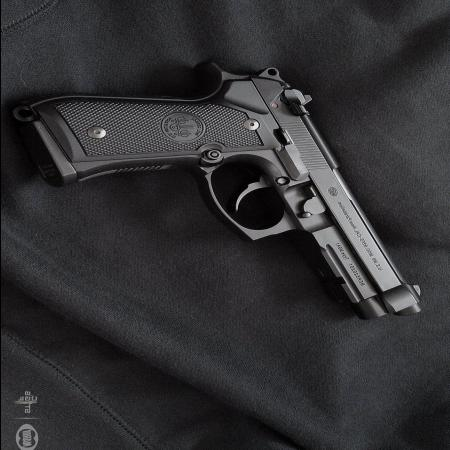Pistol: (9, 63, 428, 323)
